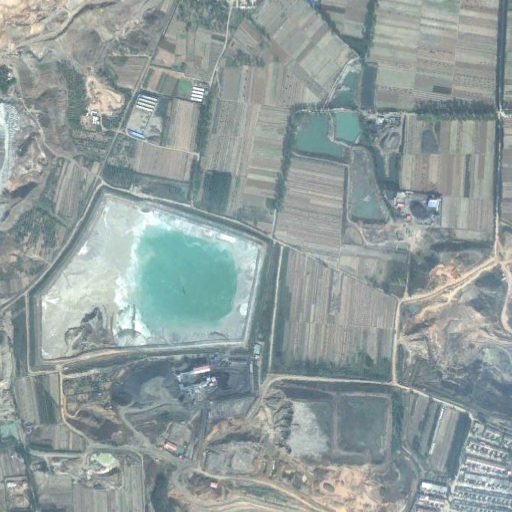tp: (28, 187, 266, 376), (266, 376, 391, 470)
